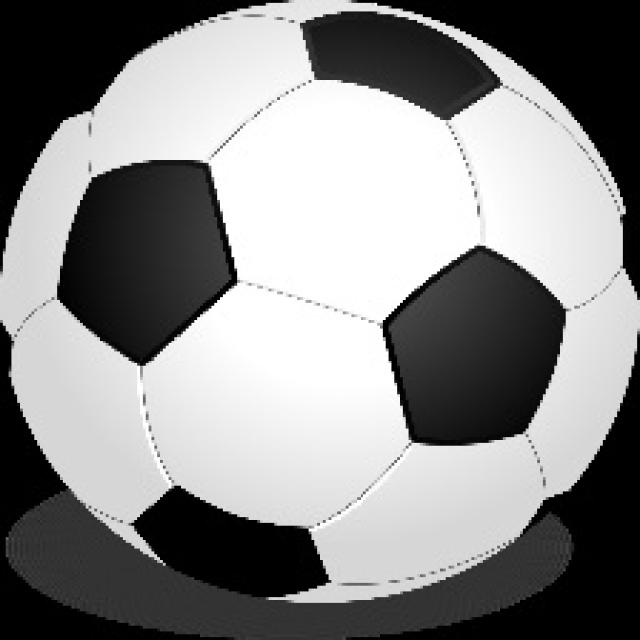ball: (5, 2, 640, 614)
